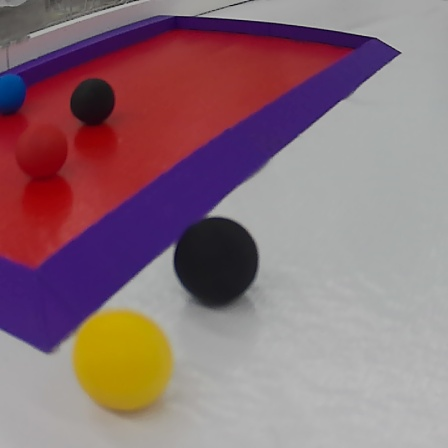black: (171, 217, 263, 309), (69, 79, 116, 126)
blue: (0, 71, 27, 116)
red: (12, 124, 73, 183)
red_aim: (0, 16, 400, 358)
yellow: (69, 307, 172, 415)
